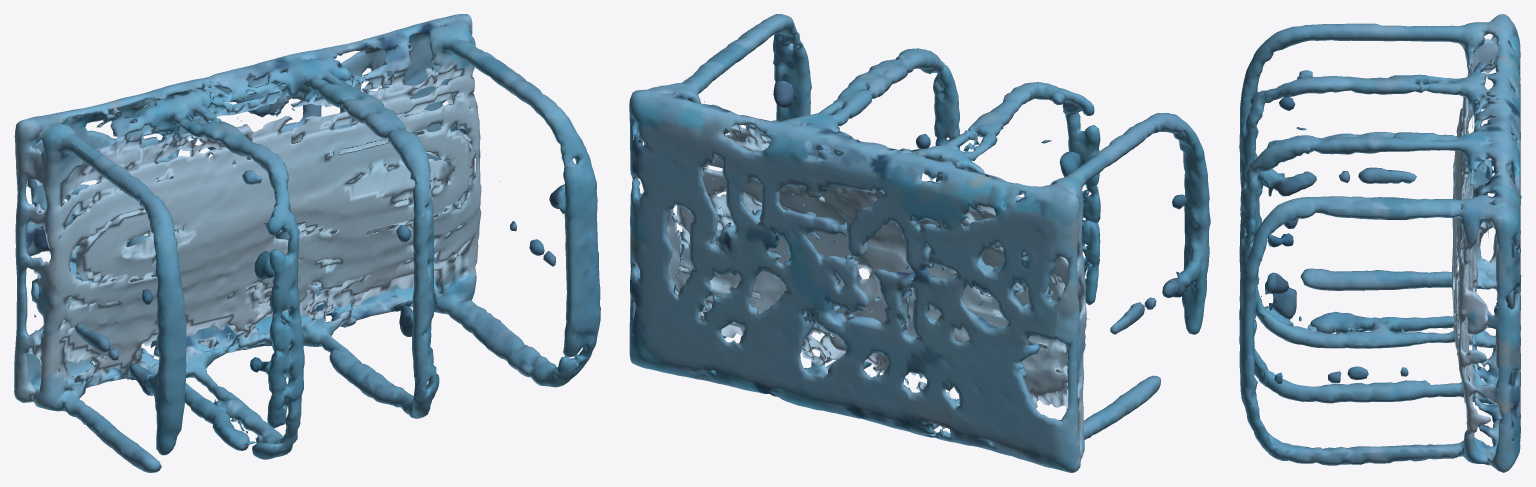
File: sorter.glb
The picture shows the model from 3 angles, left to right: view 1: azimuth 30°, elevation 25°; view 2: azimuth 150°, elevation 25°; view 3: azimuth 270°, elevation 25°; orthographic projection. The views are drawn at different scales.
Size of the model in its own units: 1 by 0.6069 by 0.5803.
